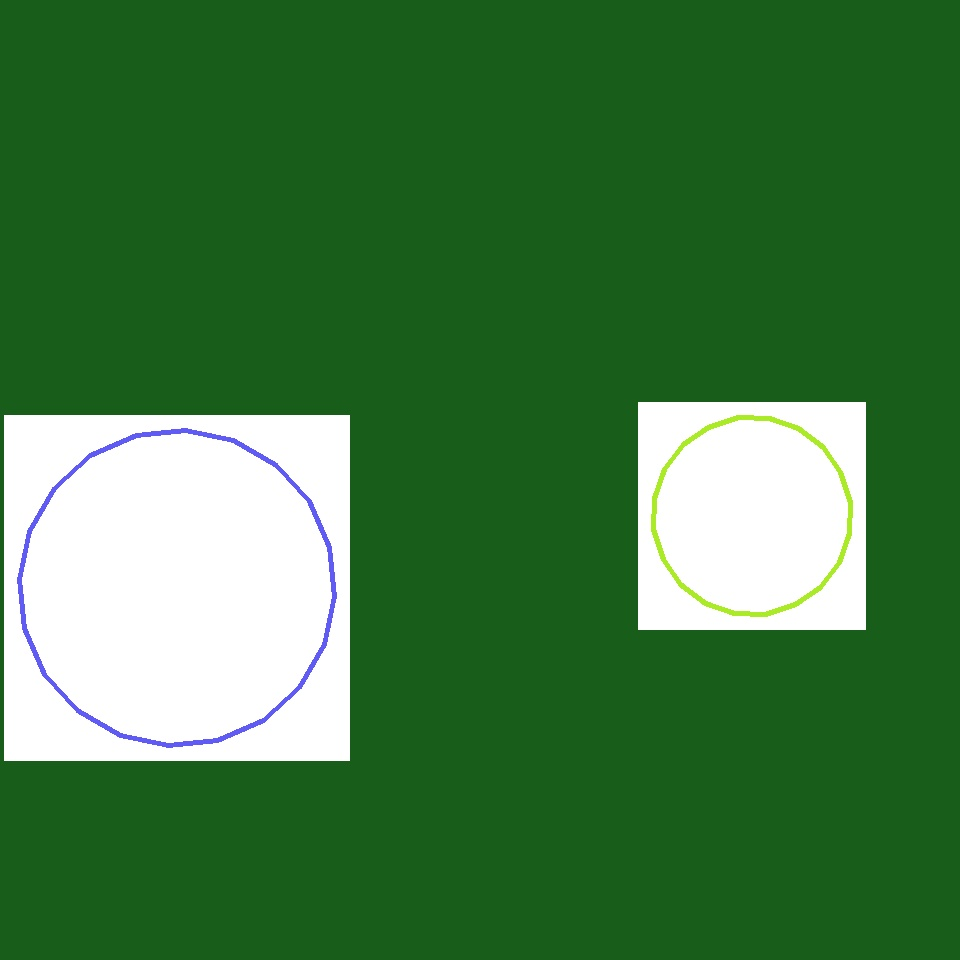circle: (66, 542, 260, 728), (680, 560, 816, 688), (201, 678, 289, 764), (548, 370, 628, 450)
square: (500, 255, 822, 578)
triangle: (20, 431, 334, 746), (480, 578, 777, 874), (654, 418, 850, 614), (846, 676, 942, 774)
